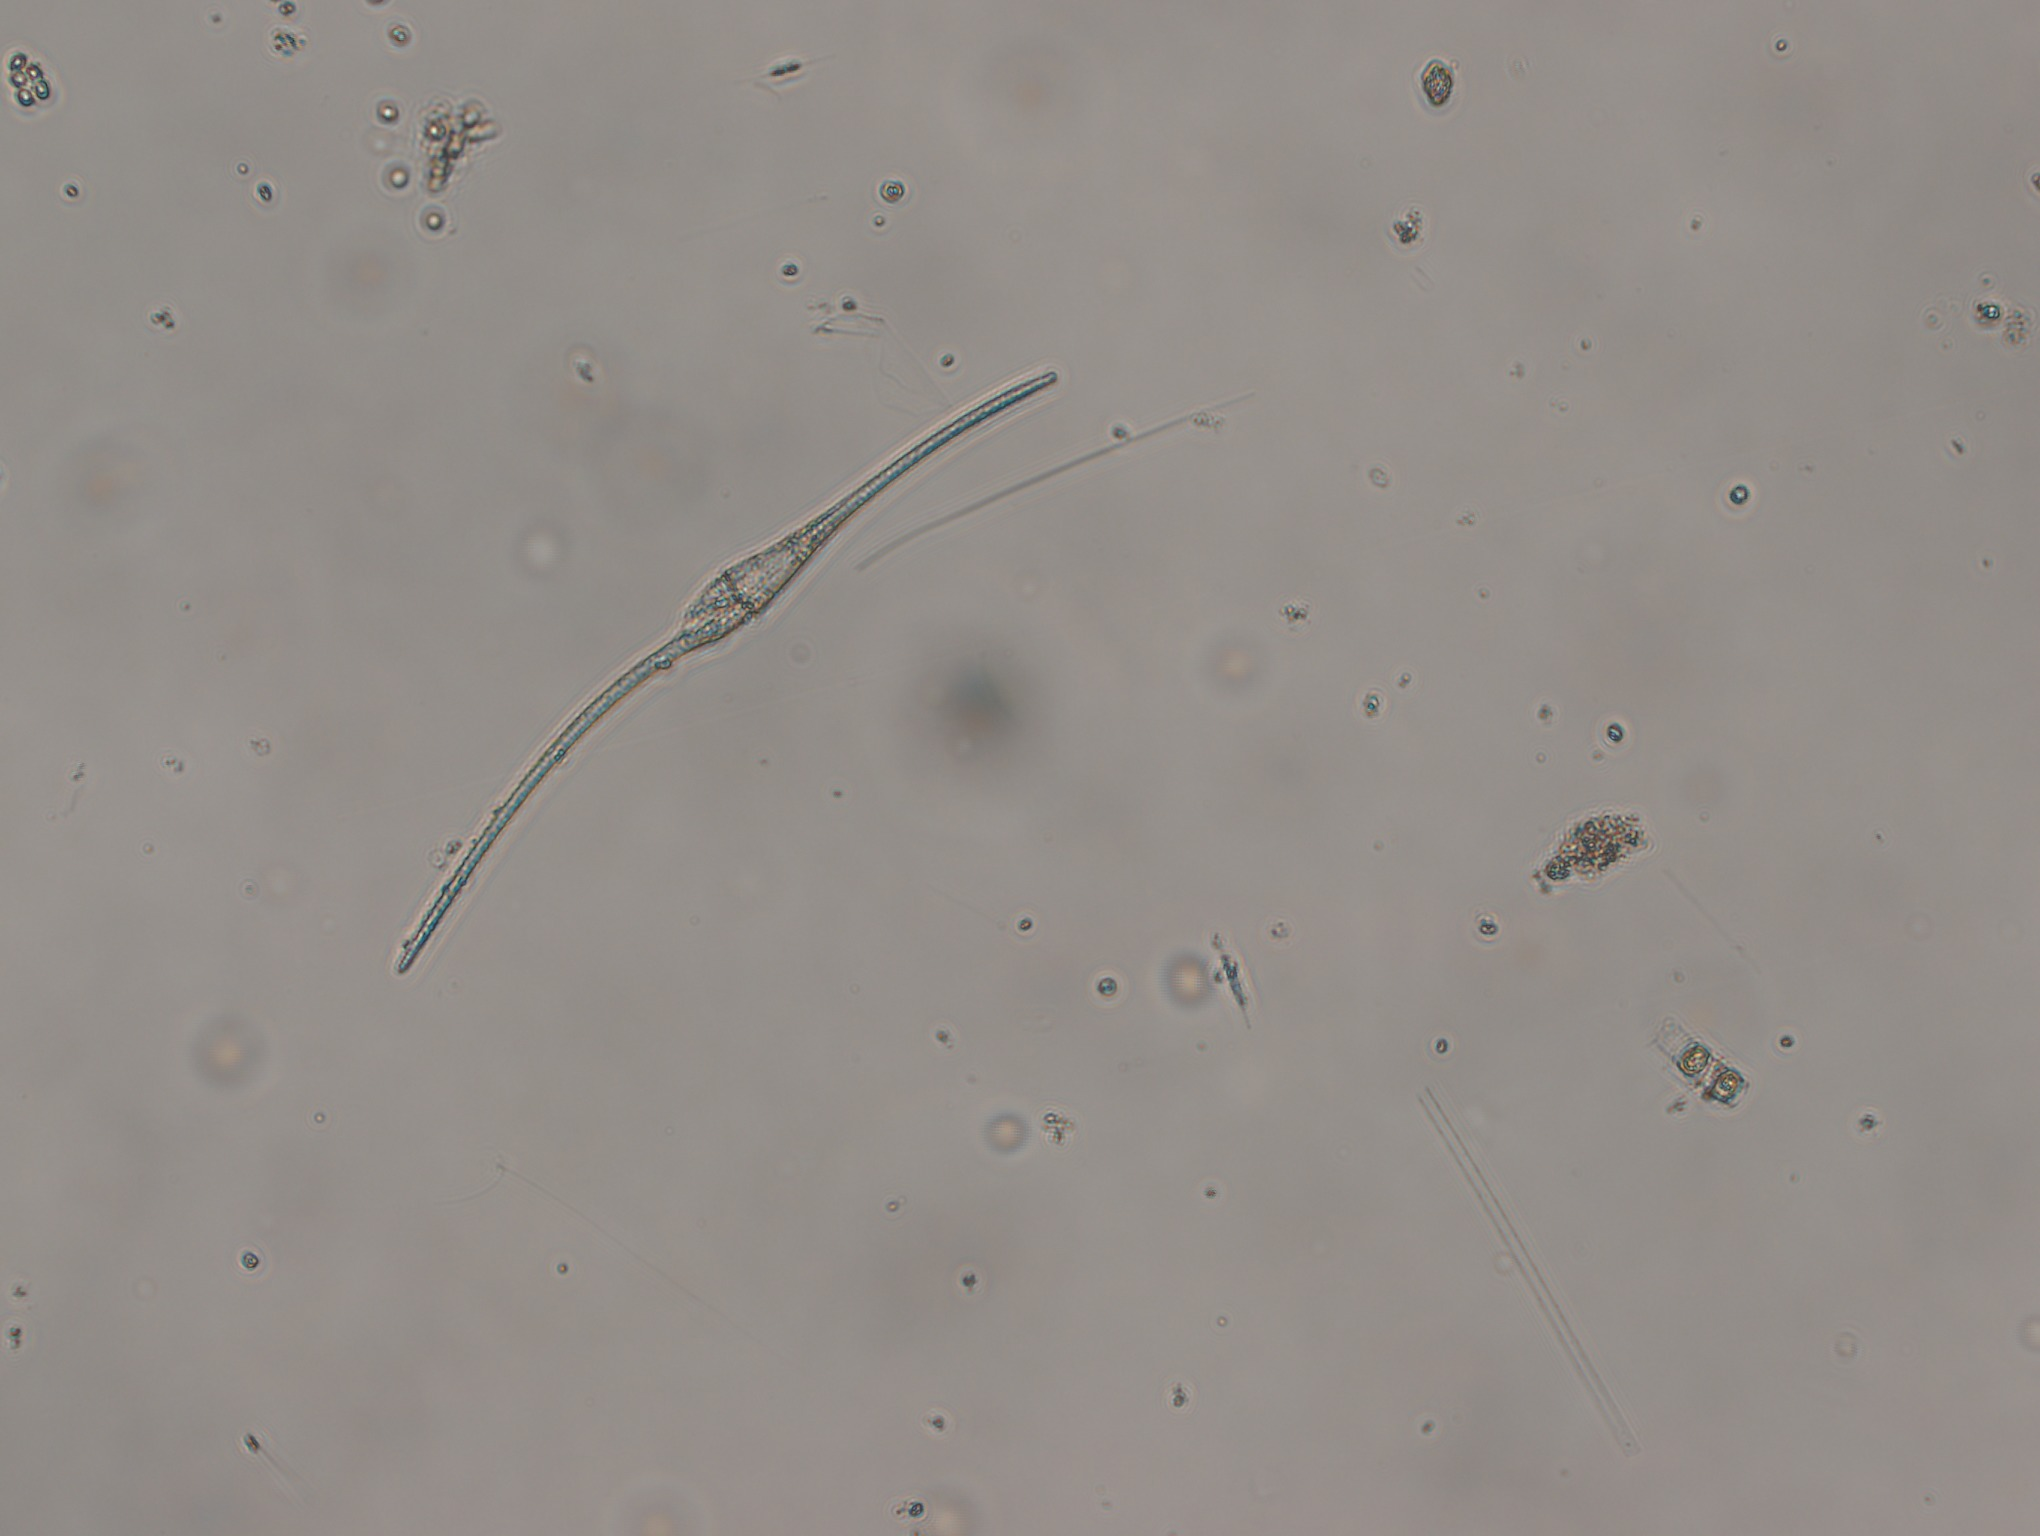ceratium fusus: (389, 358, 1076, 983)
